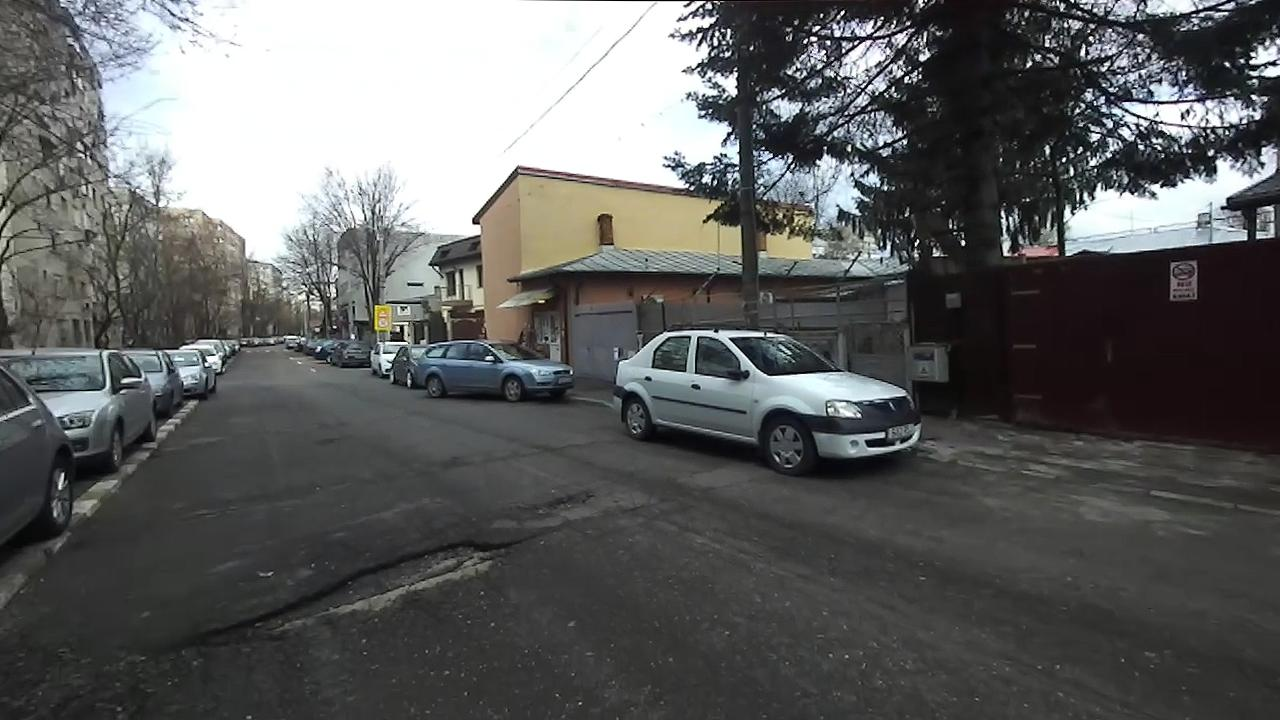pothole: (174, 532, 543, 648), (510, 485, 599, 520)
